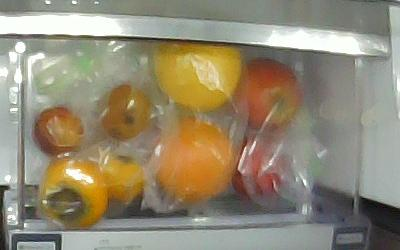apple_vinyl: (233, 57, 302, 130), (233, 133, 292, 200)
grapefruit_vinyl: (151, 116, 234, 202), (153, 42, 242, 111)
persimmon_vinyl: (39, 158, 107, 228), (97, 152, 145, 201)
prune_vinyl: (97, 84, 153, 141), (34, 107, 84, 157)
